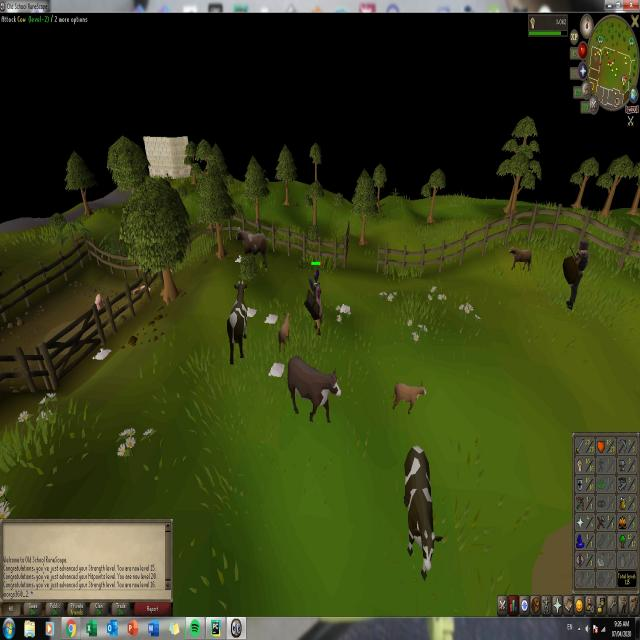cow: (400, 442, 442, 579), (285, 352, 341, 426), (224, 280, 250, 362), (234, 227, 268, 272), (390, 378, 428, 415), (506, 246, 533, 274), (277, 308, 292, 356)
player: (308, 264, 324, 339)
